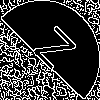Z: (25, 25, 77, 79)
